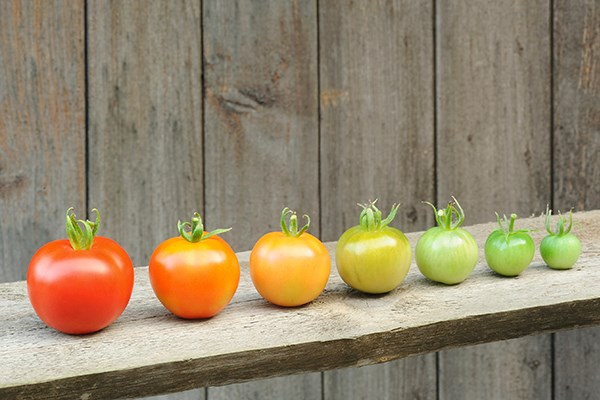tomato: (24, 226, 138, 336), (149, 230, 235, 320), (333, 206, 412, 297), (251, 227, 327, 308), (418, 211, 476, 285), (486, 216, 534, 276), (542, 223, 583, 272)
